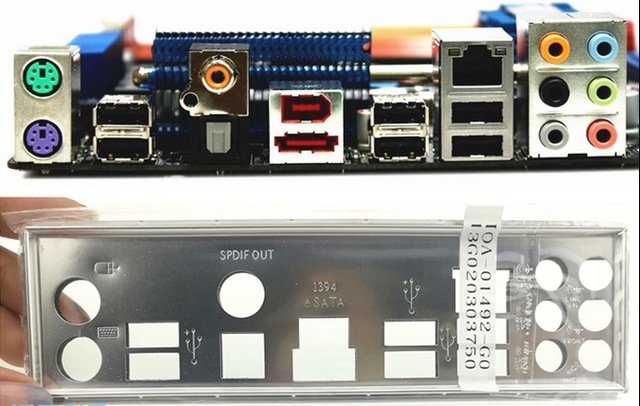Audio: (580, 28, 625, 63), (535, 31, 575, 69), (582, 74, 626, 107), (584, 117, 618, 152)
